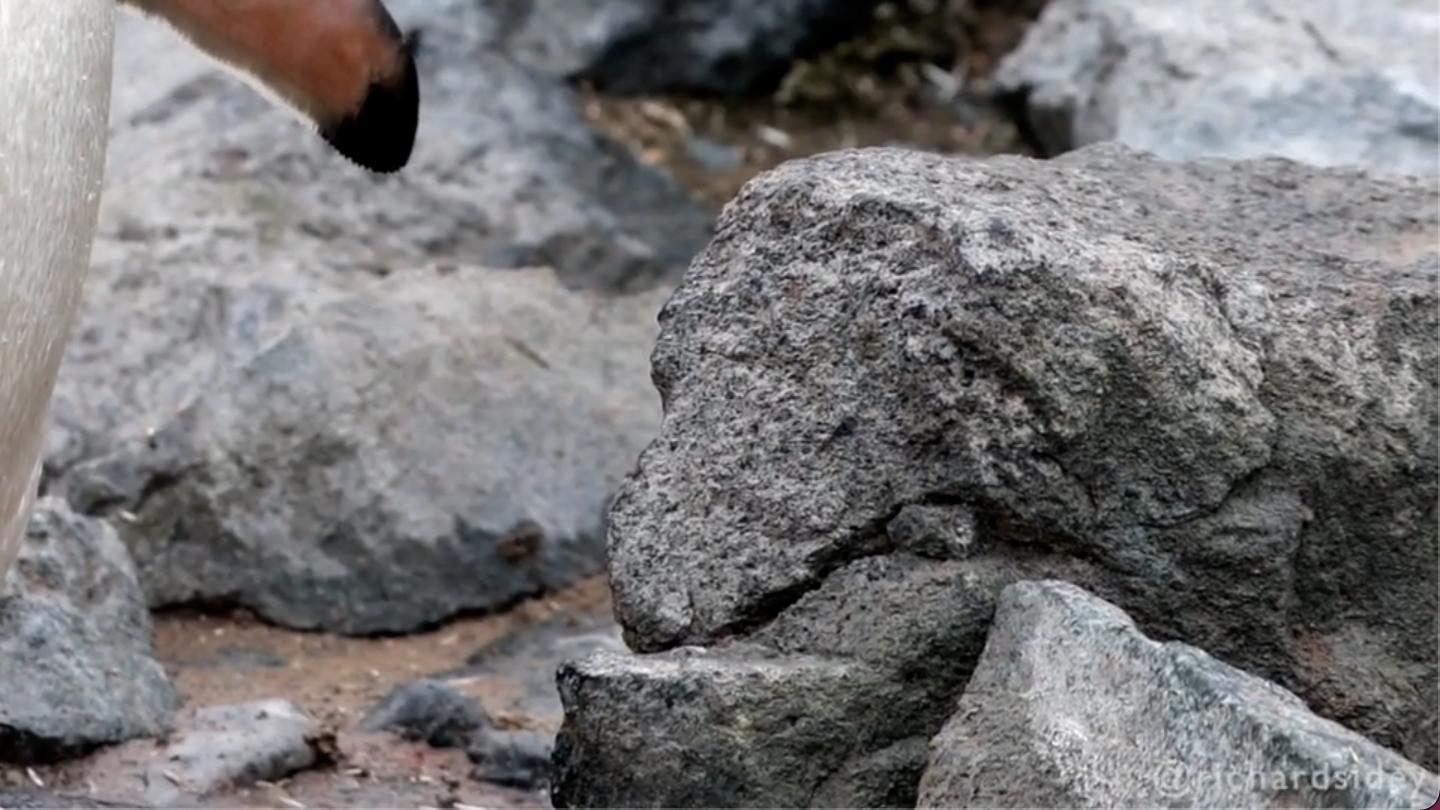Chinstrap Penguin: (0, 0, 426, 805)
